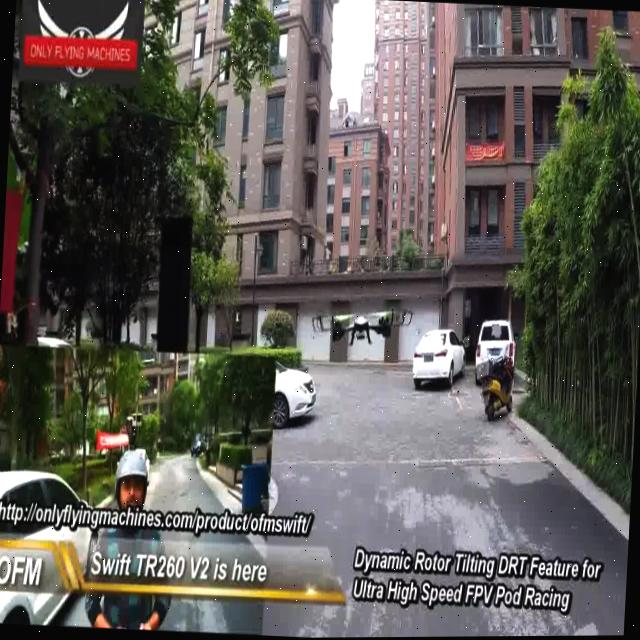drone: (306, 298, 416, 354)
